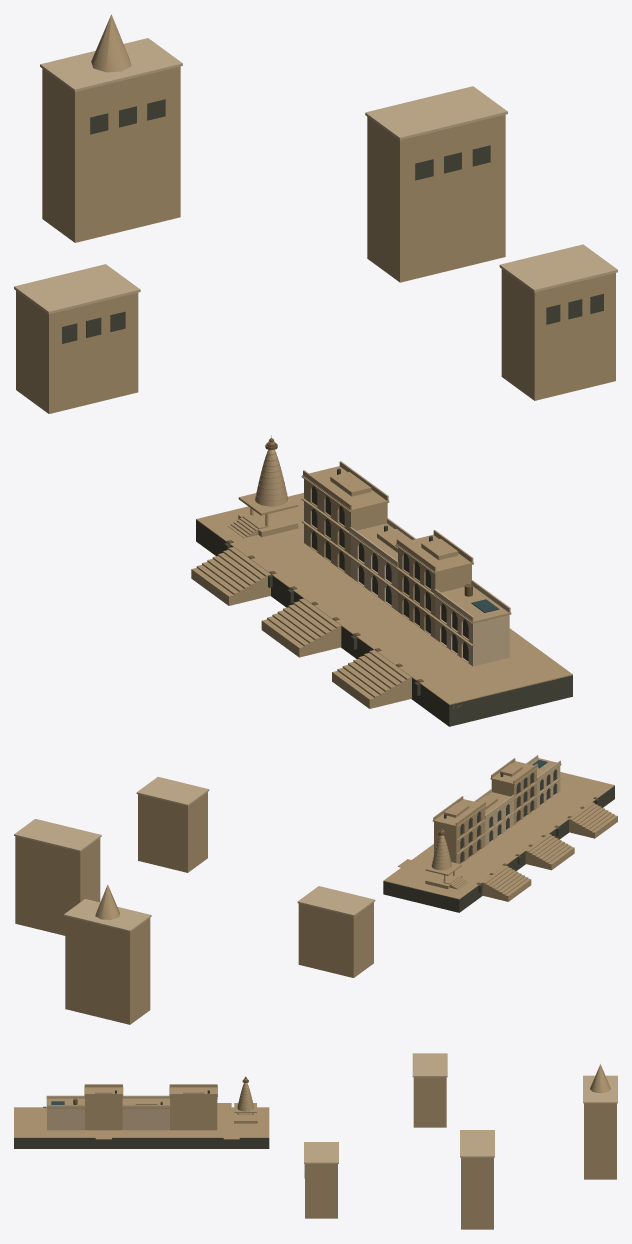
The model's file is block-base.glb.
The picture shows the model from 3 angles, top to bottom: view 1: azimuth 30°, elevation 25°; view 2: azimuth 150°, elevation 25°; view 3: azimuth 270°, elevation 25°; orthographic projection. The views are drawn at different scales.
Parts seen in each view (by area): view 1: base-distant-silhouettes-sandstone, base-continuous-quay-sandstone, base-distant-silhouettes-plaster, base-house-3-sandstone, base-continuous-quay-basalt, base-house-1-sandstone, base-distant-silhouettes-basalt, base-house-0-plaster, base-public-shrine-sandstone, base-house-2-plaster, base-house-0-sandstone, base-house-2-sandstone (+1 smaller); view 2: base-distant-silhouettes-sandstone, base-continuous-quay-sandstone, base-distant-silhouettes-plaster, base-house-3-sandstone, base-continuous-quay-basalt, base-house-1-sandstone, base-public-shrine-sandstone, base-house-2-plaster, base-house-0-plaster, base-house-2-sandstone, base-house-3-basalt, base-house-1-basalt; view 3: base-distant-silhouettes-sandstone, base-continuous-quay-sandstone, base-distant-silhouettes-plaster, base-continuous-quay-basalt, base-house-3-sandstone, base-house-1-sandstone, base-house-2-plaster, base-house-0-plaster, base-public-shrine-sandstone, base-house-2-sandstone, base-house-0-sandstone.
Part boxes in pixels (bbox=[...]): base-distant-silhouettes-sandstone: bbox=[16, 14, 615, 413]; base-continuous-quay-sandstone: bbox=[191, 493, 572, 708]; base-distant-silhouettes-plaster: bbox=[14, 38, 617, 314]; base-house-3-sandstone: bbox=[301, 461, 389, 576]; base-continuous-quay-basalt: bbox=[196, 520, 572, 726]; base-house-1-sandstone: bbox=[395, 530, 473, 638]; base-distant-silhouettes-basalt: bbox=[62, 99, 603, 343]; base-house-0-plaster: bbox=[434, 580, 510, 666]; base-public-shrine-sandstone: bbox=[228, 441, 298, 538]; base-house-2-plaster: bbox=[350, 518, 415, 611]; base-house-0-sandstone: bbox=[433, 586, 511, 646]; base-house-2-sandstone: bbox=[348, 523, 411, 590]; base-distant-silhouettes-sandstone: bbox=[15, 792, 373, 1024]; base-continuous-quay-sandstone: bbox=[383, 772, 617, 901]; base-distant-silhouettes-plaster: bbox=[14, 777, 375, 931]; base-house-3-sandstone: bbox=[432, 796, 486, 864]; base-continuous-quay-basalt: bbox=[383, 786, 614, 912]; base-house-1-sandstone: bbox=[490, 758, 538, 824]; base-public-shrine-sandstone: bbox=[425, 830, 468, 889]; base-house-2-plaster: bbox=[474, 789, 514, 845]; base-house-0-plaster: bbox=[526, 755, 560, 807]; base-house-2-sandstone: bbox=[477, 792, 515, 833]; base-house-3-basalt: bbox=[444, 811, 480, 863]; base-house-1-basalt: bbox=[500, 772, 533, 821]; base-distant-silhouettes-sandstone: bbox=[305, 1064, 616, 1229]; base-continuous-quay-sandstone: bbox=[14, 1103, 269, 1139]; base-distant-silhouettes-plaster: bbox=[304, 1053, 617, 1163]; base-continuous-quay-basalt: bbox=[14, 1138, 269, 1148]; base-house-3-sandstone: bbox=[169, 1084, 217, 1130]; base-house-1-sandstone: bbox=[84, 1084, 123, 1130]; base-house-2-plaster: bbox=[122, 1095, 170, 1130]; base-house-0-plaster: bbox=[46, 1095, 85, 1130]; base-public-shrine-sandstone: bbox=[234, 1078, 257, 1123]; base-house-2-sandstone: bbox=[122, 1098, 170, 1108]; base-house-0-sandstone: bbox=[46, 1098, 85, 1110].
Bounding box in the file's own units: 66.85 × 26.77 × 128.
